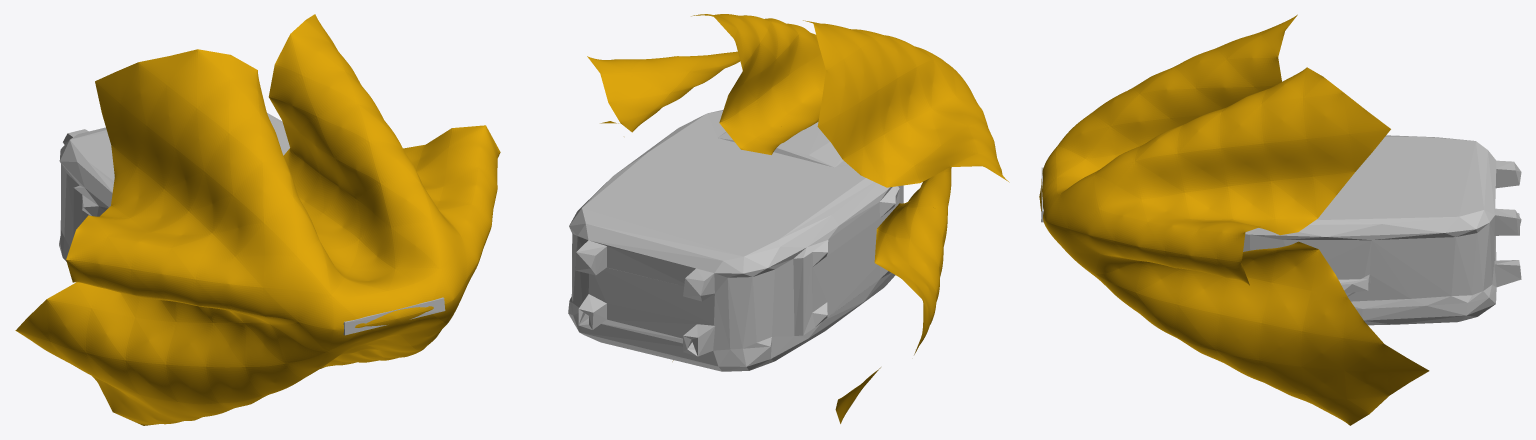
File: udnn.glb
3 views of the same model, side by side, from view 1: azimuth 30°, elevation 25°; view 2: azimuth 150°, elevation 25°; view 3: azimuth 270°, elevation 25° (orthographic). The views are drawn at different scales.
Parts seen in each view (by area): view 1: level_4.ply, object.obj; view 2: object.obj, level_4.ply; view 3: level_4.ply, object.obj.
Part boxes in pixels (x1,y1,x2,y2): level_4.ply: (15,14,500,425); object.obj: (59,113,445,335); object.obj: (568,110,903,371); level_4.ply: (587,14,1009,423); level_4.ply: (1039,14,1429,425); object.obj: (1041,135,1521,325).
Size of the model in its own units: 0.4062 by 0.3408 by 0.4335.
